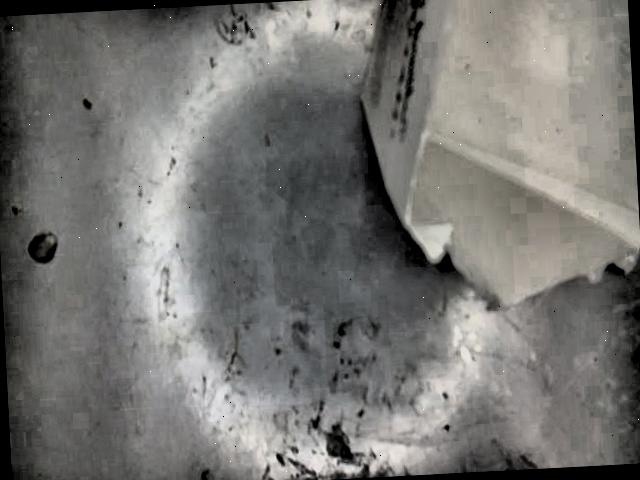Paper: (358, 0, 640, 313)
